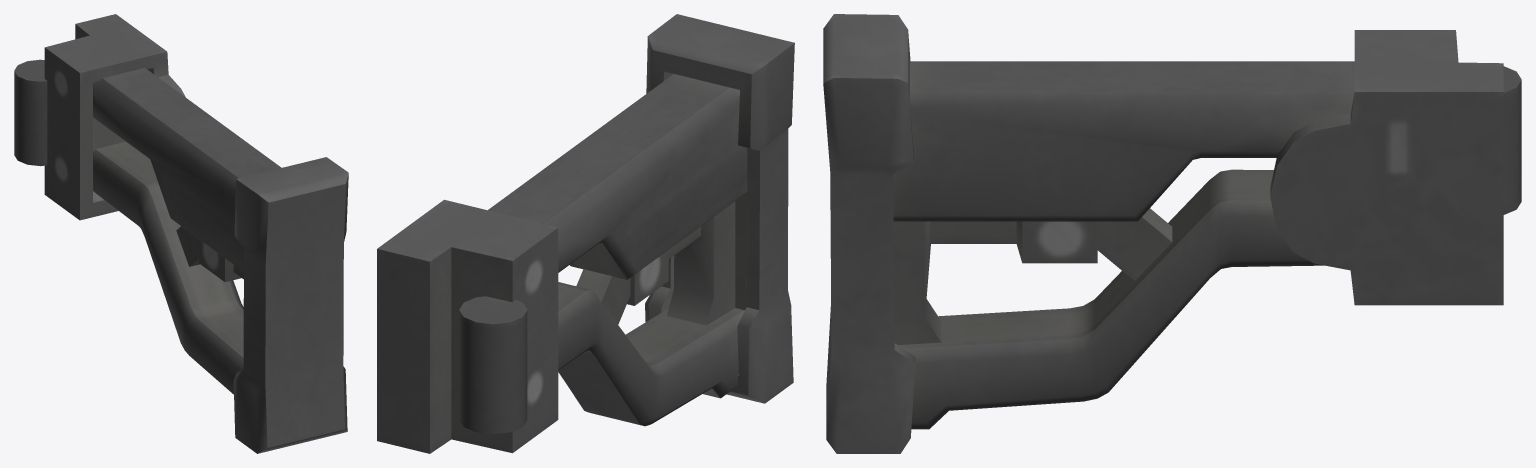
Rendered from IG_Acc_Stock_ALL_REL_1.fbx.
The picture shows the model from 3 angles, left to right: view 1: azimuth 30°, elevation 25°; view 2: azimuth 150°, elevation 25°; view 3: azimuth 270°, elevation 25°; orthographic projection. The views are drawn at different scales.
Parts seen in each view (by area): view 1: Stock_ALL_REL_1; view 2: Stock_ALL_REL_1; view 3: Stock_ALL_REL_1.
Part boxes in pixels (left/top/right/bottom): Stock_ALL_REL_1: left=14, top=14, right=348, bottom=453; Stock_ALL_REL_1: left=377, top=14, right=794, bottom=453; Stock_ALL_REL_1: left=823, top=14, right=1521, bottom=453.
Size of the model in its own units: 0.0766 by 0.1787 by 0.3007.
Materials: 1 (1 with a texture image).
